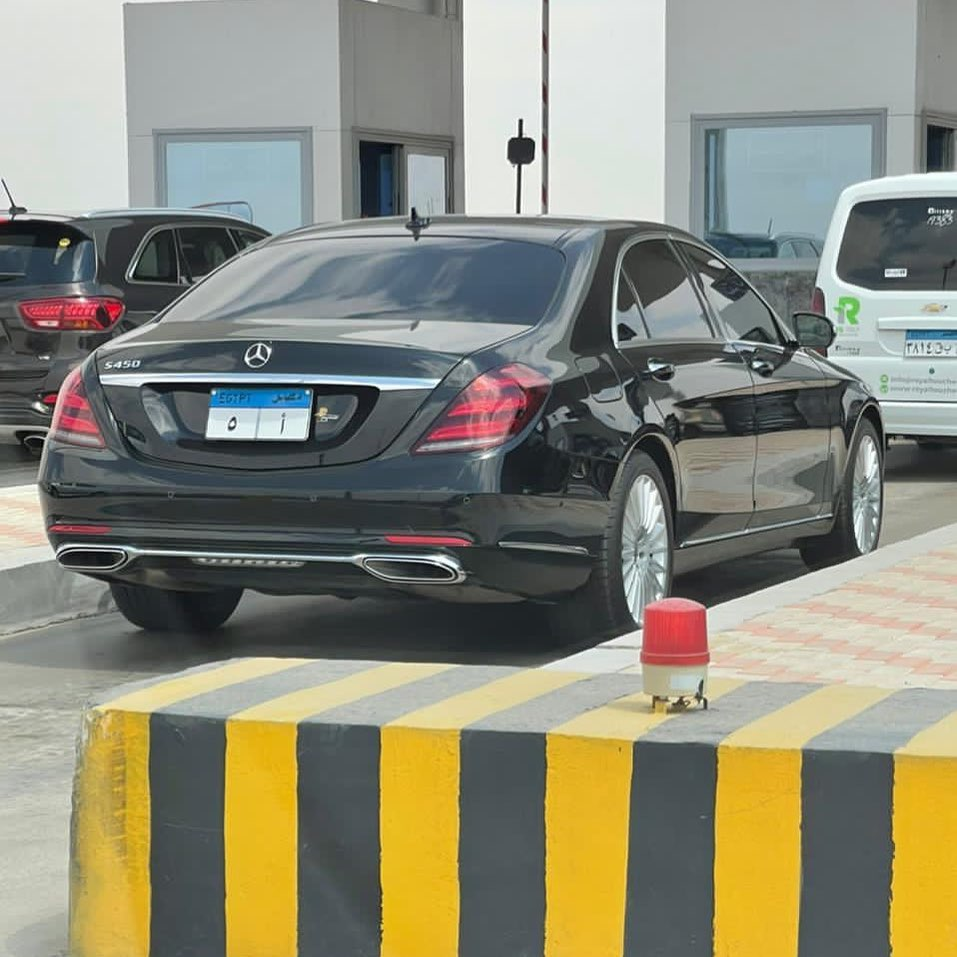carpl: (206, 389, 321, 447)
